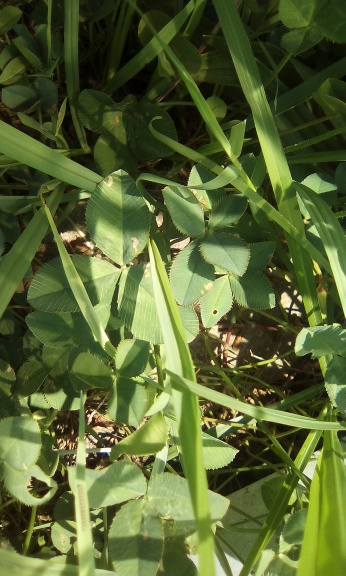4leaf: (161, 183, 250, 308)
